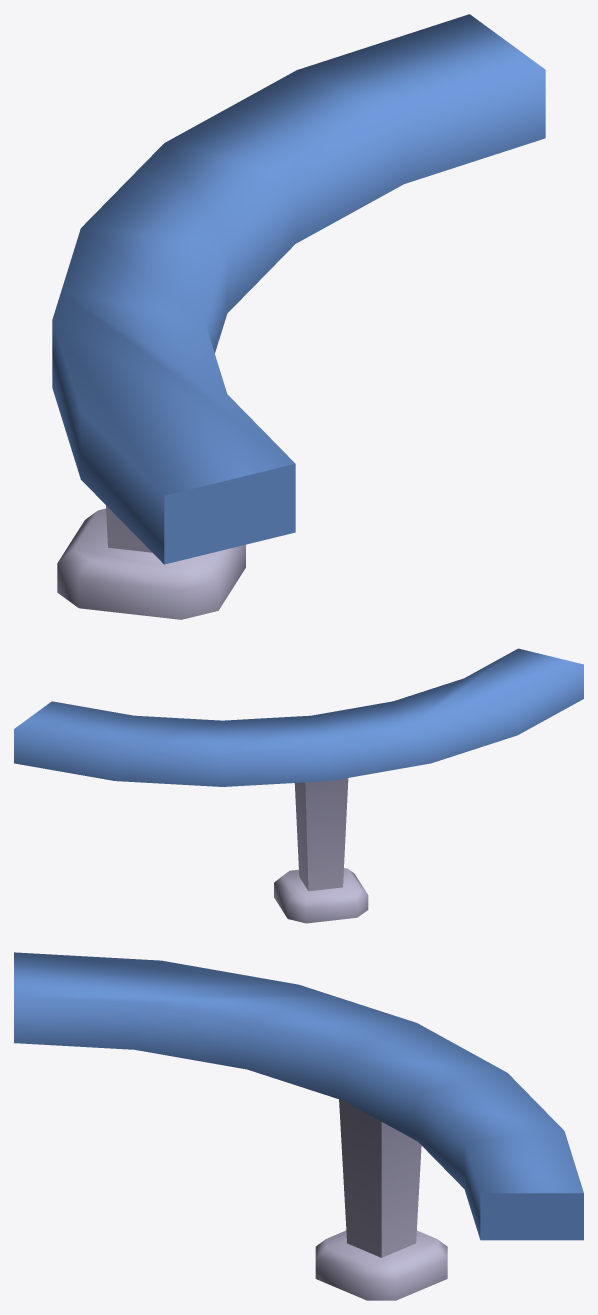
Rendered from rail-curve.glb.
3 renders of one model, top to bottom at view 1: azimuth 30°, elevation 25°; view 2: azimuth 150°, elevation 25°; view 3: azimuth 270°, elevation 25°, orthographic. The views are drawn at different scales.
Visible parts, largest first — view 1: rail-curve; view 2: rail-curve; view 3: rail-curve.
Boxes of the visible parts, bbox=[...] form: rail-curve: bbox=[52, 14, 545, 619]; rail-curve: bbox=[14, 648, 583, 923]; rail-curve: bbox=[14, 952, 583, 1300].
Bounding box in the file's own units: 0.55 × 0.25 × 0.55.
Materials: 1 (1 with a texture image).
